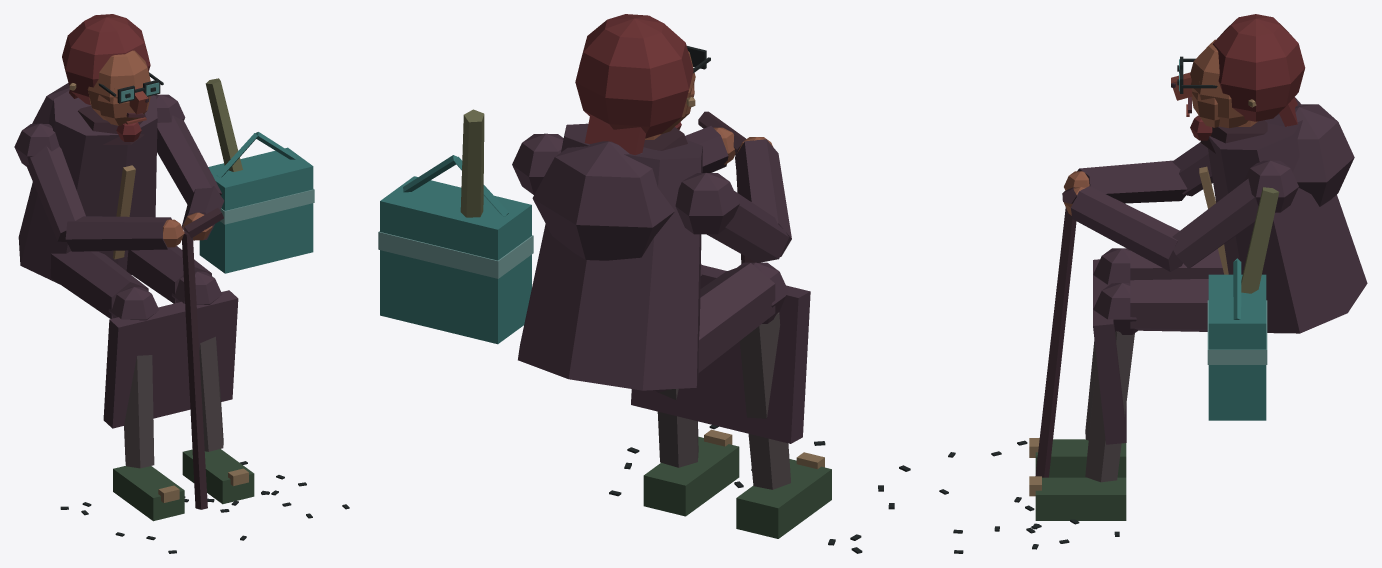
Rendered from baba.glb.
3 renders of one model, left to right at view 1: azimuth 30°, elevation 25°; view 2: azimuth 150°, elevation 25°; view 3: azimuth 270°, elevation 25°, orthographic. The views are drawn at different scales.
Parts seen in each view (by area): view 1: Corp, Cap; view 2: Corp, Cap; view 3: Corp, Cap.
Boxes of the visible parts, x1=… form: Corp: x1=14, y1=78, x2=349, y2=553; Cap: x1=62, y1=14, x2=163, y2=141; Corp: x1=378, y1=109, x2=910, y2=553; Cap: x1=575, y1=14, x2=710, y2=155; Corp: x1=939, y1=97, x2=1367, y2=553; Cap: x1=1171, y1=14, x2=1305, y2=140.
Bounding box in the file's own units: 0.9352 × 1.27 × 1.04.
